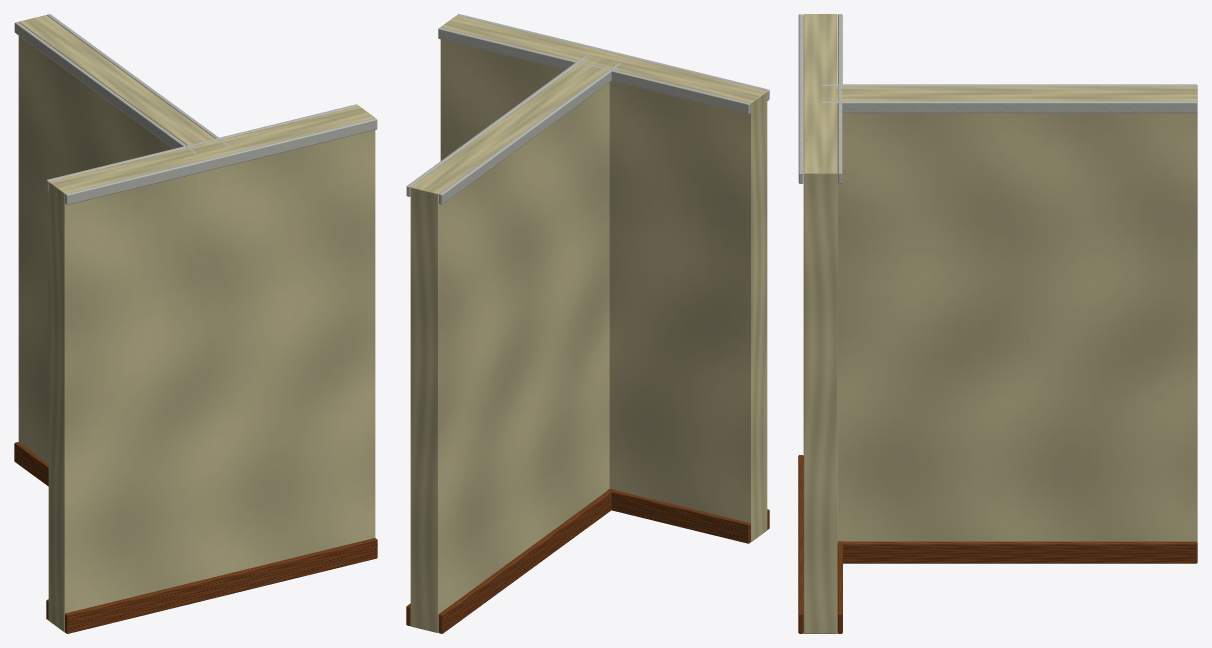
The model's file is liminal-spaces-kit-wall-t-junction-37164006__25194.glb.
The picture shows the model from 3 angles, left to right: view 1: azimuth 30°, elevation 25°; view 2: azimuth 150°, elevation 25°; view 3: azimuth 270°, elevation 25°; orthographic projection. The views are drawn at different scales.
Parts seen in each view (by area): view 1: wall-t-junction; view 2: wall-t-junction; view 3: wall-t-junction.
Part boxes in pixels (x1=…): wall-t-junction: x1=14, y1=14, x2=377, y2=633; wall-t-junction: x1=406, y1=14, x2=769, y2=633; wall-t-junction: x1=798, y1=14, x2=1197, y2=633.
Bounding box in the file's own units: 2 × 2.7 × 2.12.
3 materials, 3 textured.
